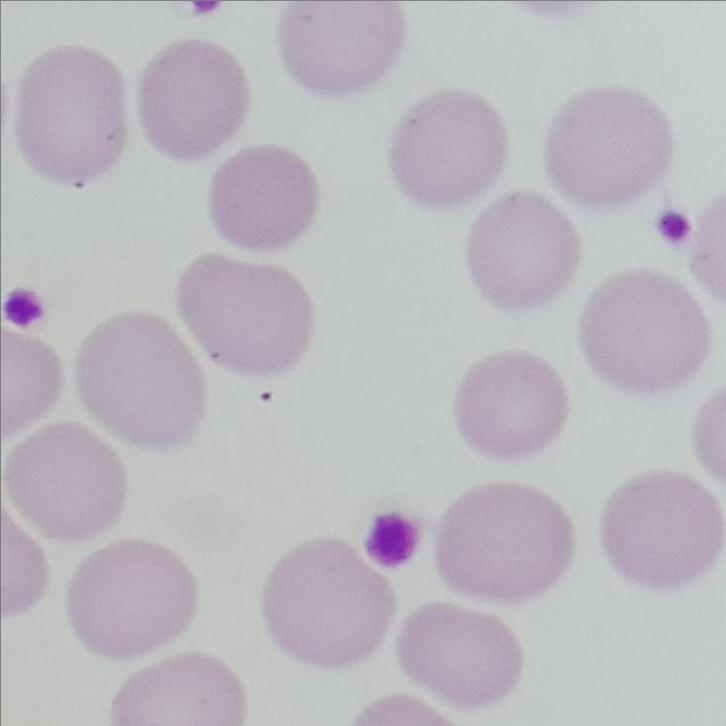Uninfected: (77, 309, 209, 448), (266, 537, 393, 668), (0, 420, 129, 544), (177, 255, 314, 371), (17, 45, 127, 187), (547, 90, 674, 208), (441, 487, 573, 600), (584, 269, 707, 390), (600, 469, 725, 588), (67, 542, 194, 659), (466, 193, 578, 311), (396, 92, 506, 210), (139, 36, 246, 156), (399, 603, 522, 707), (456, 350, 570, 460), (273, 0, 405, 94), (213, 150, 316, 250), (110, 653, 245, 726)
